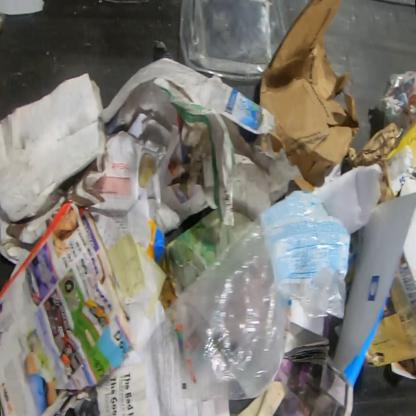cardboard: (258, 0, 400, 204), (0, 73, 106, 222), (152, 78, 236, 233)
rigid_plastic: (177, 0, 289, 84)
soft_plastic: (163, 215, 347, 402), (259, 190, 352, 283)
